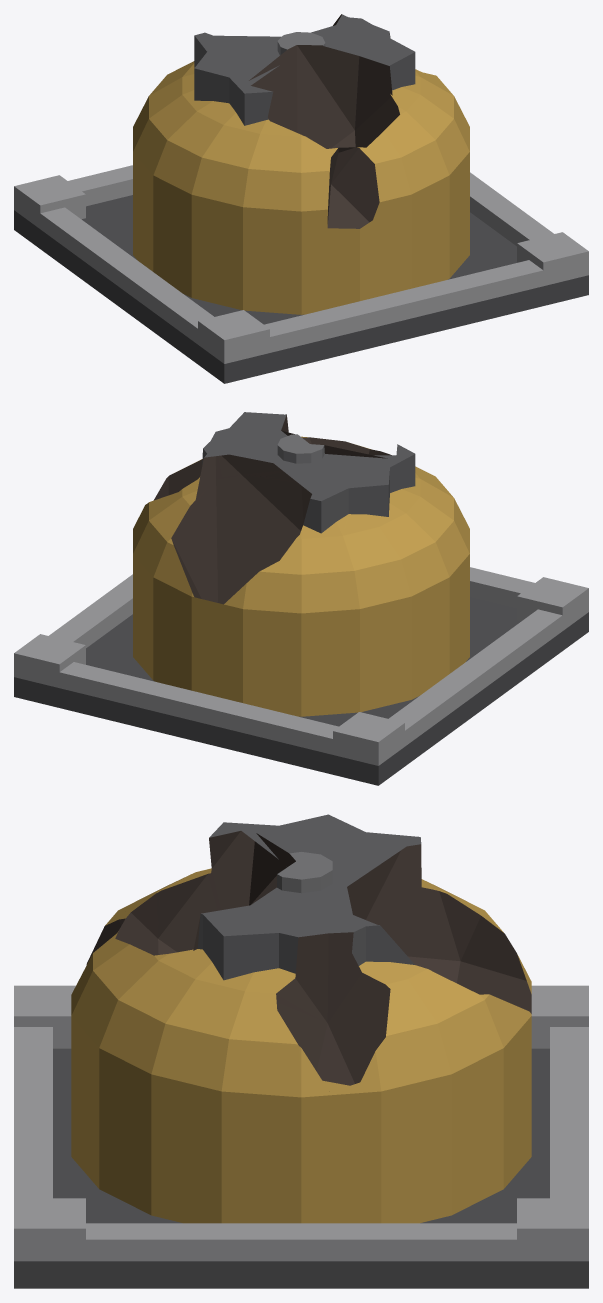
The model's file is vge_d_smalloxygentank.obj.
3 renders of one model, top to bottom at view 1: azimuth 30°, elevation 25°; view 2: azimuth 150°, elevation 25°; view 3: azimuth 270°, elevation 25°, orthographic. The views are drawn at different scales.
Parts seen in each view (by area): view 1: vge_d_smalloxygentank; view 2: vge_d_smalloxygentank; view 3: vge_d_smalloxygentank.
Boxes of the visible parts, bbox=[...] form: vge_d_smalloxygentank: bbox=[14, 14, 588, 383]; vge_d_smalloxygentank: bbox=[14, 412, 588, 785]; vge_d_smalloxygentank: bbox=[14, 814, 588, 1288].
Size of the model in its own units: 1.92 by 1.11 by 1.92.
